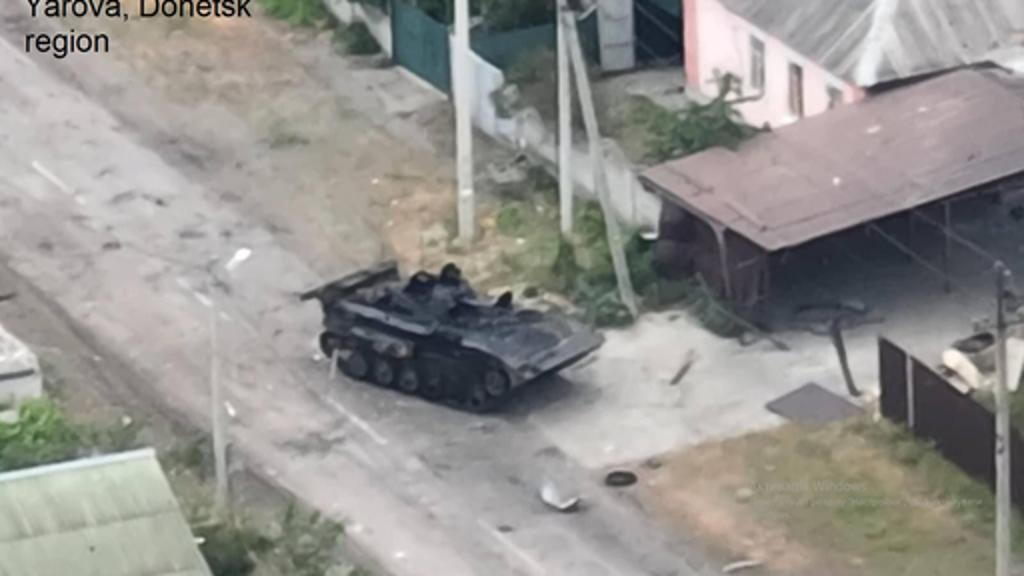APC-IFV: (298, 248, 610, 414)
